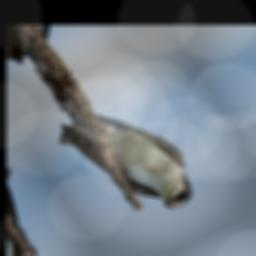Swallow: (46, 77, 208, 240)
